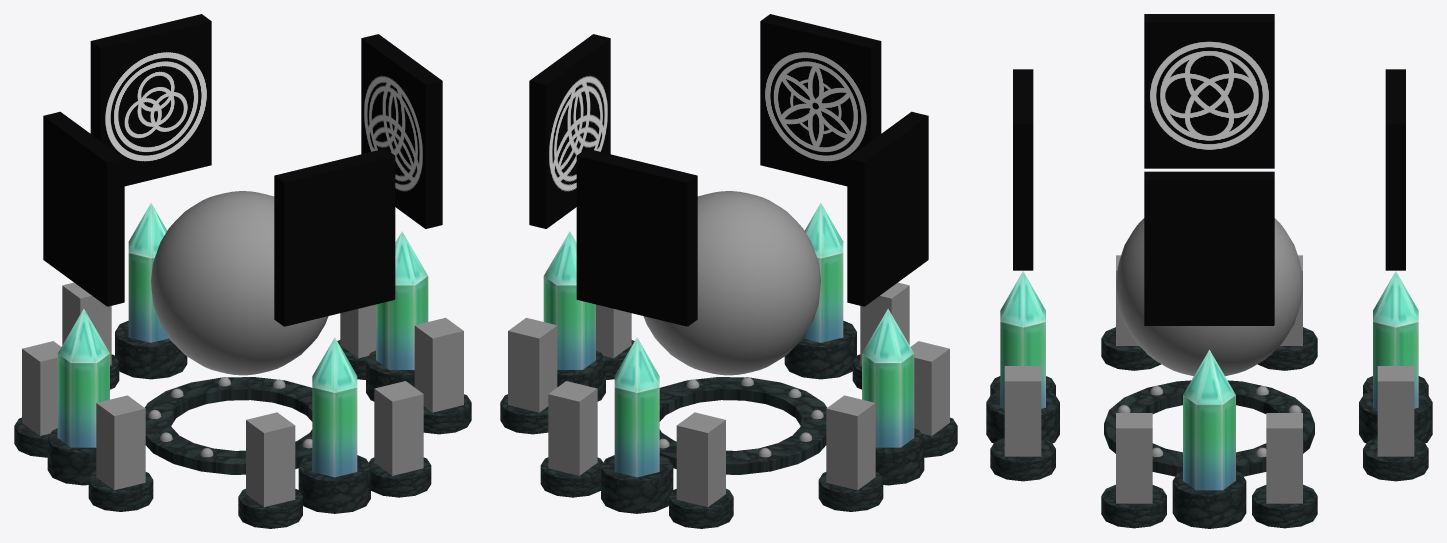
Rendered from generator portal.FBX.
3 renders of one model, left to right at view 1: azimuth 30°, elevation 25°; view 2: azimuth 150°, elevation 25°; view 3: azimuth 270°, elevation 25°, orthographic.
Visible parts, largest first — view 1: portal, Sphere001, symbol timed, symbol hinted, symbol ordered, symbol RGB, Crystal ordered, Crystal timed, Crystal RGB, Object003, Object004, Box007 (+6 smaller); view 2: portal, Sphere001, symbol hinted, symbol timed, symbol ordered, symbol RGB, Crystal ordered, crystal hinted, Crystal RGB, Box006, Object002, Box005 (+6 smaller); view 3: portal, symbol ordered, symbol RGB, Sphere001, Crystal RGB, symbol timed, symbol hinted, crystal hinted, Crystal timed, Box005, Box007, Box008 (+4 smaller).
Boxes of the visible parts, x1,y1,x2,y2 form: portal: (14, 320, 471, 528); Sphere001: (151, 191, 328, 375); symbol timed: (274, 148, 395, 326); symbol hinted: (90, 14, 211, 186); symbol ordered: (43, 111, 124, 306); symbol RGB: (361, 34, 442, 228); Crystal ordered: (57, 309, 109, 447); Crystal timed: (312, 337, 357, 477); Crystal RGB: (376, 231, 428, 369); Object003: (96, 395, 145, 490); Object004: (246, 412, 295, 507); Box007: (374, 381, 423, 475); portal: (500, 320, 957, 528); Sphere001: (643, 191, 820, 375); symbol hinted: (576, 148, 697, 326); symbol timed: (760, 14, 881, 186); symbol ordered: (847, 111, 928, 306); symbol RGB: (529, 34, 610, 228); Crystal ordered: (862, 309, 914, 447); crystal hinted: (614, 337, 659, 477); Crystal RGB: (543, 231, 595, 369); Box006: (826, 395, 875, 490); Object002: (676, 412, 725, 507); Box005: (548, 381, 597, 475); portal: (986, 327, 1432, 528); symbol ordered: (1144, 14, 1274, 168); symbol RGB: (1144, 171, 1274, 325); Sphere001: (1116, 218, 1302, 376); Crystal RGB: (1183, 349, 1235, 490); symbol timed: (1013, 69, 1033, 270); symbol hinted: (1385, 69, 1405, 270); crystal hinted: (1373, 271, 1418, 408); Crystal timed: (1000, 271, 1045, 408); Box005: (1377, 366, 1414, 456); Box007: (1004, 366, 1041, 456); Box008: (1116, 413, 1152, 503).
Bounding box in the file's own units: 240 × 201 × 240.
